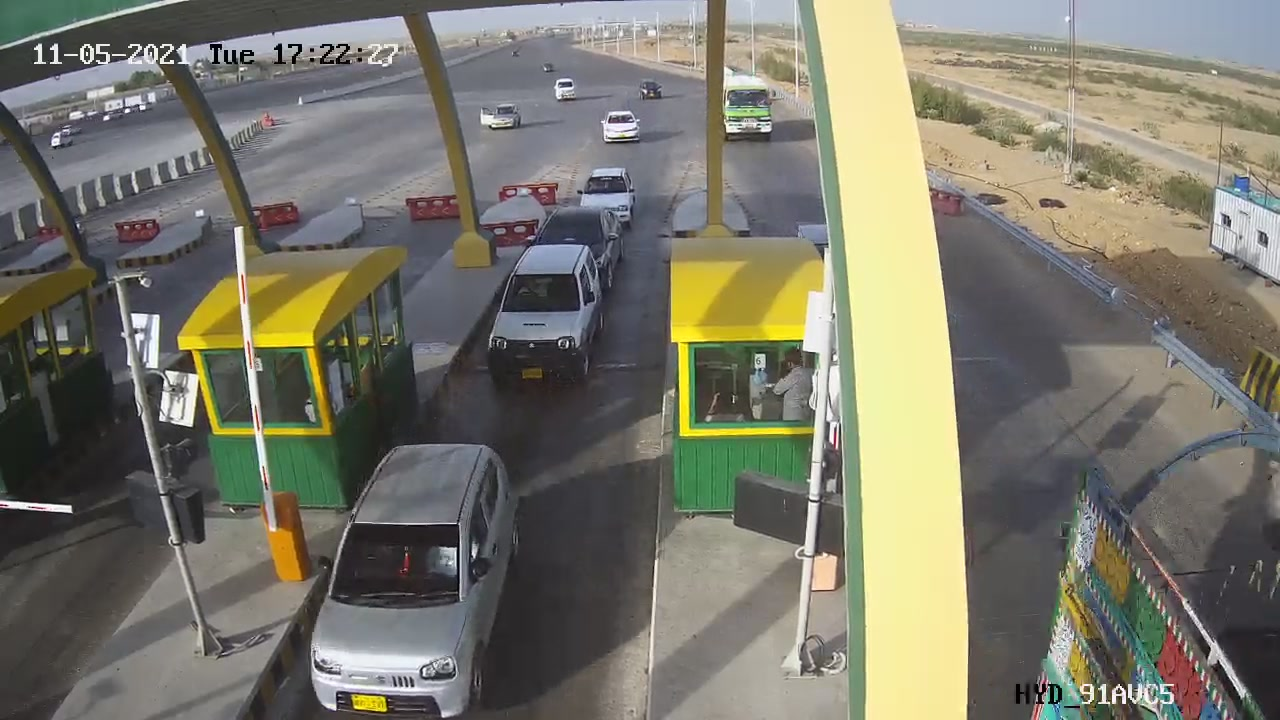F1: (465, 227, 627, 401)
